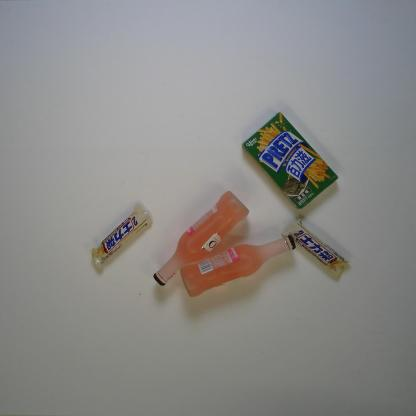Alcohol: (153, 190, 249, 287), (180, 234, 296, 298)
Chocolate: (90, 204, 153, 270), (281, 218, 350, 277)
Dessert: (241, 112, 340, 210)
